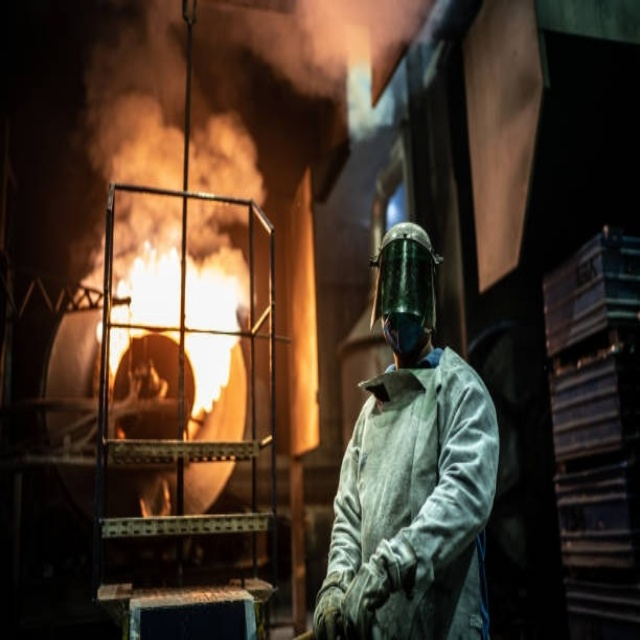Guantes: (343, 540, 412, 637), (313, 588, 350, 640)
